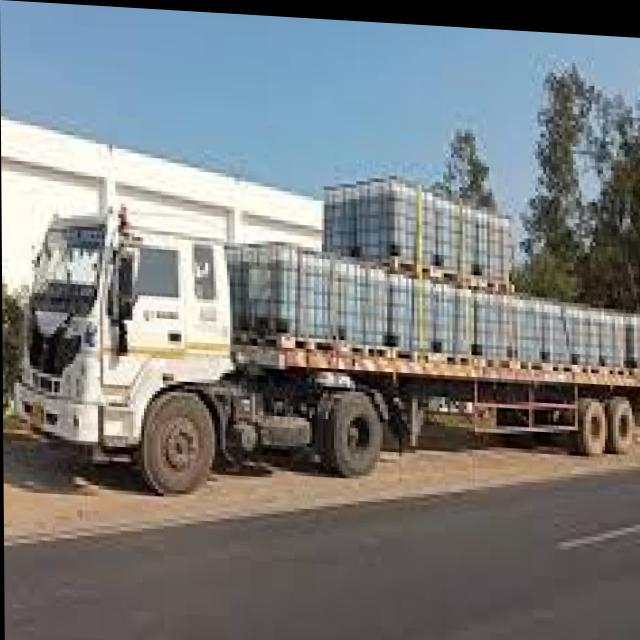uncovered: (21, 166, 639, 504)
